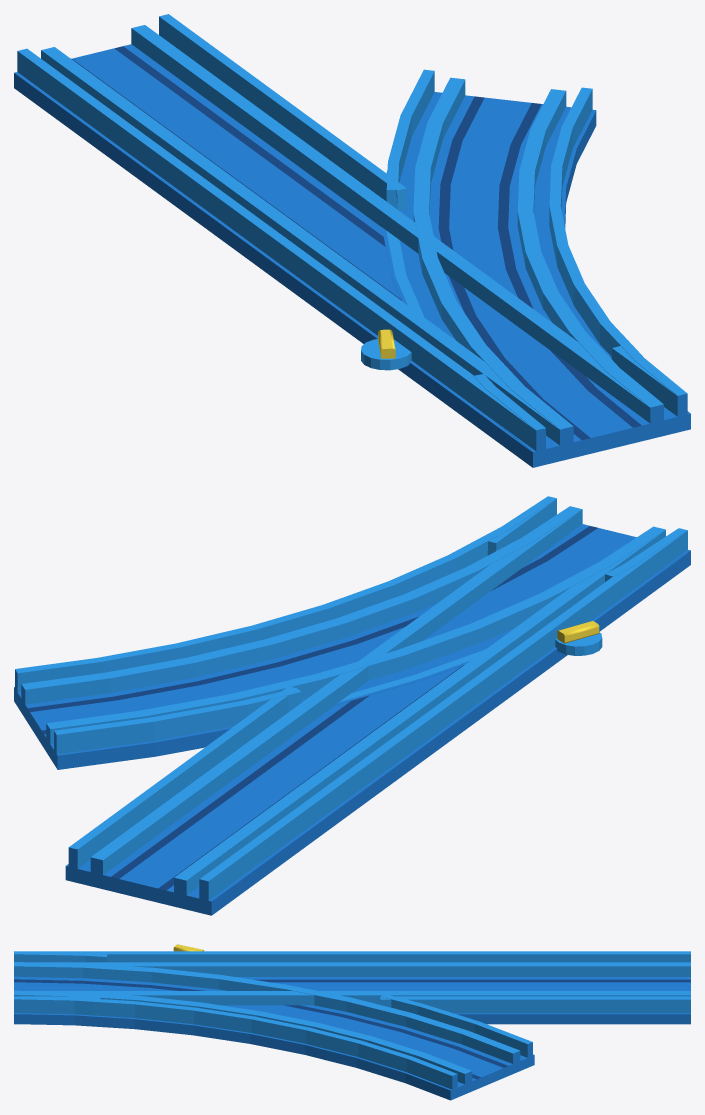
The model's file is Track_Point_Right.fbx.
3 views of the same model, one above another, from view 1: azimuth 30°, elevation 25°; view 2: azimuth 150°, elevation 25°; view 3: azimuth 270°, elevation 25° (orthographic). The views are drawn at different scales.
Visible parts, largest first — view 1: Molded rail through, Molded rail branch, Lever base; view 2: Molded rail through, Molded rail branch, Lever base; view 3: Molded rail branch, Molded rail through.
Boxes of the visible parts, bbox=[...] form: Molded rail through: bbox=[14, 14, 690, 467]; Molded rail branch: bbox=[382, 69, 690, 452]; Lever base: bbox=[361, 339, 411, 370]; Molded rail through: bbox=[65, 499, 690, 915]; Molded rail branch: bbox=[14, 496, 690, 769]; Lever base: bbox=[555, 632, 602, 655]; Molded rail branch: bbox=[14, 951, 534, 1100]; Molded rail through: bbox=[14, 951, 690, 1024].
Bounding box in the file's own units: 289 × 23.41 × 600.
